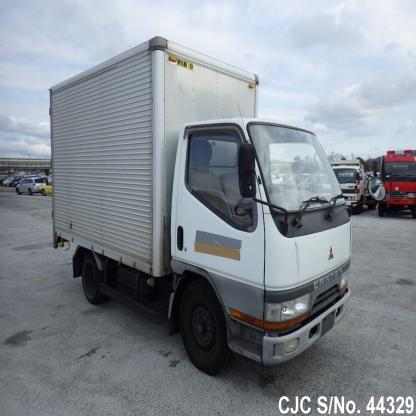truck: (50, 36, 354, 374)
